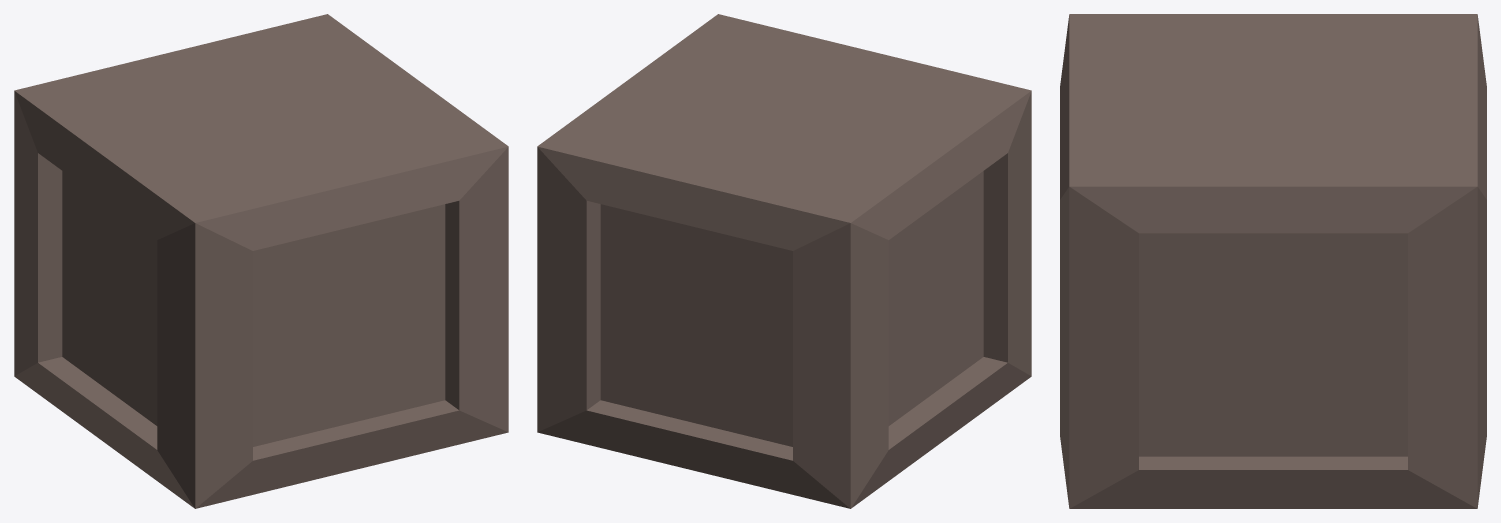
File: top_cube_pillar.fbx
3 views of the same model, side by side, from view 1: azimuth 30°, elevation 25°; view 2: azimuth 150°, elevation 25°; view 3: azimuth 270°, elevation 25° (orthographic). The views are drawn at different scales.
Parts seen in each view (by area): view 1: top_cube_pillar; view 2: top_cube_pillar; view 3: top_cube_pillar.
Boxes of the visible parts, x1,y1,x2,y2 form: top_cube_pillar: [14, 14, 508, 508]; top_cube_pillar: [537, 14, 1031, 508]; top_cube_pillar: [1060, 14, 1486, 508].
Size of the model in its own units: 123 by 103 by 123.
